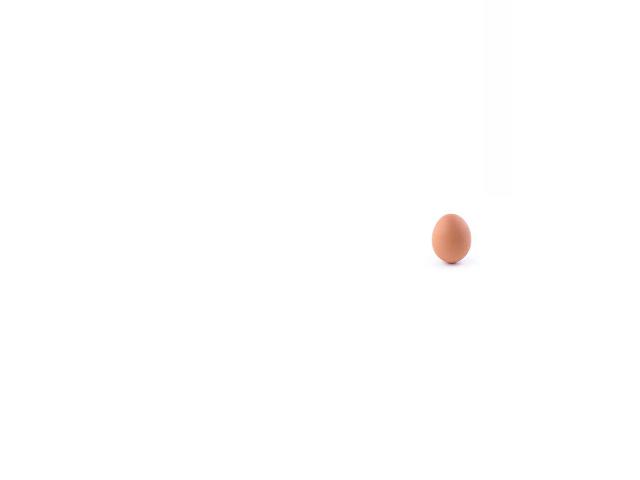egg: (432, 213, 472, 263)
